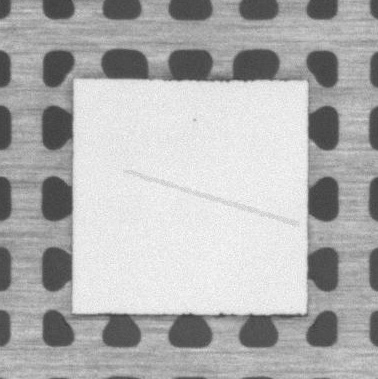DIE_CRACK: (124, 171, 297, 224)
